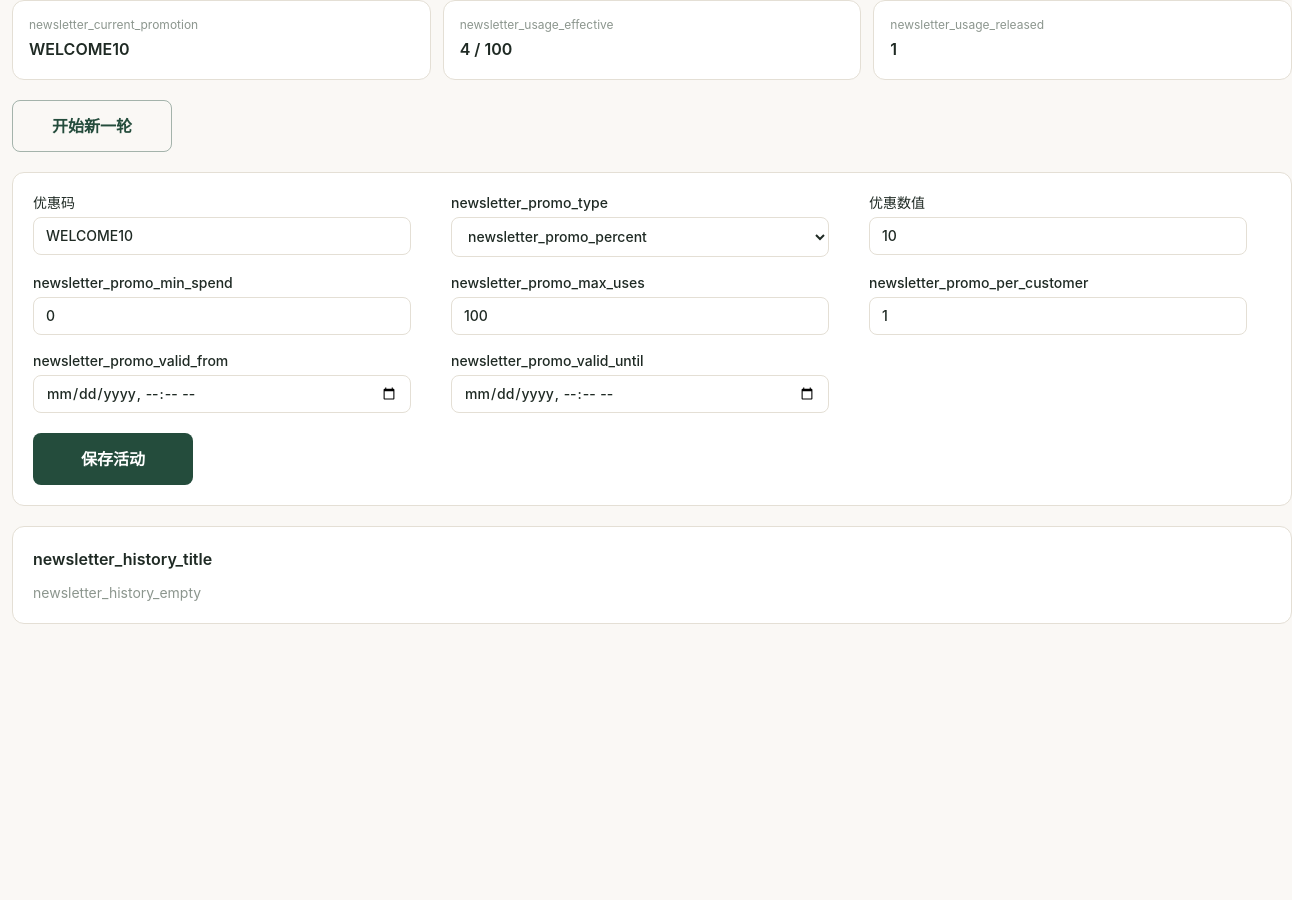
Test: PromotionPanel › warns that a new round archives but preserves the old history
The image size is (1292, 900).
Click the button "开始新一轮": (92, 126) [12,100,172,152]
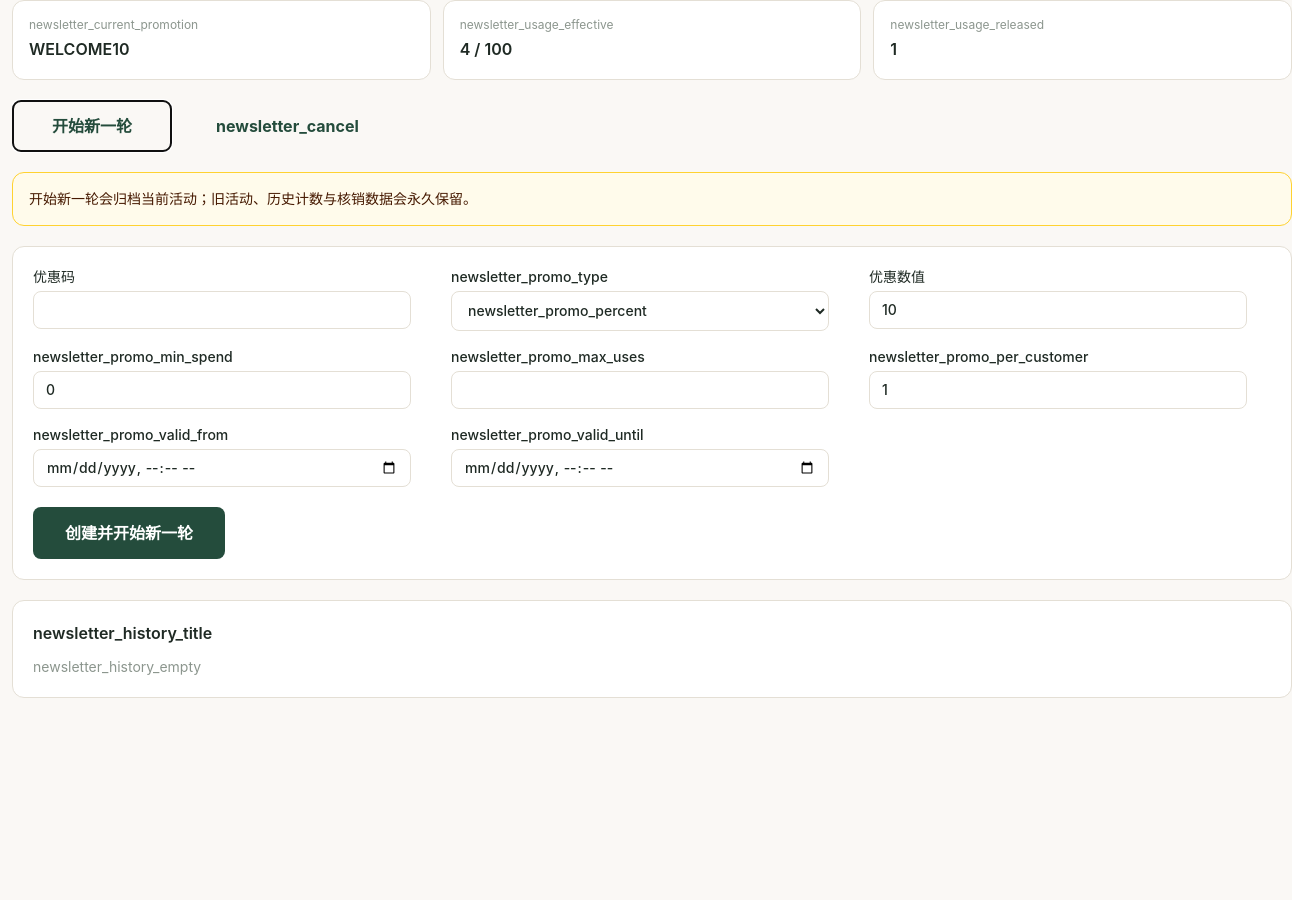
Result: the message reads "开始新一轮会归档当前活动；旧活动、历史计数与核销数据会永久保留。" at [29,190,477,207]
Result: the button "创建并开始新一轮" is shown at [33,507,225,559]
